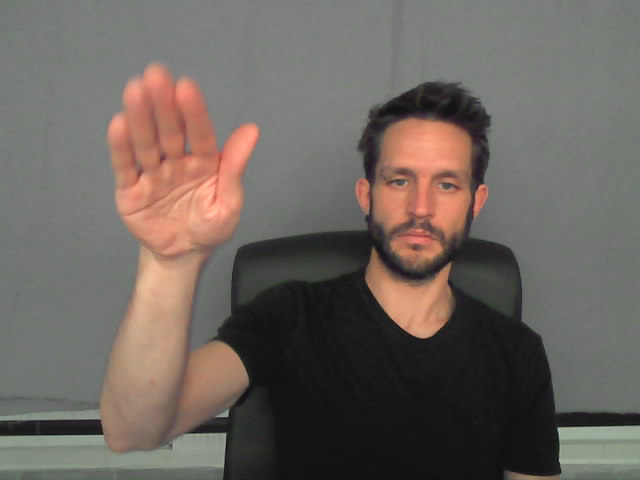stop: (107, 64, 261, 258)
